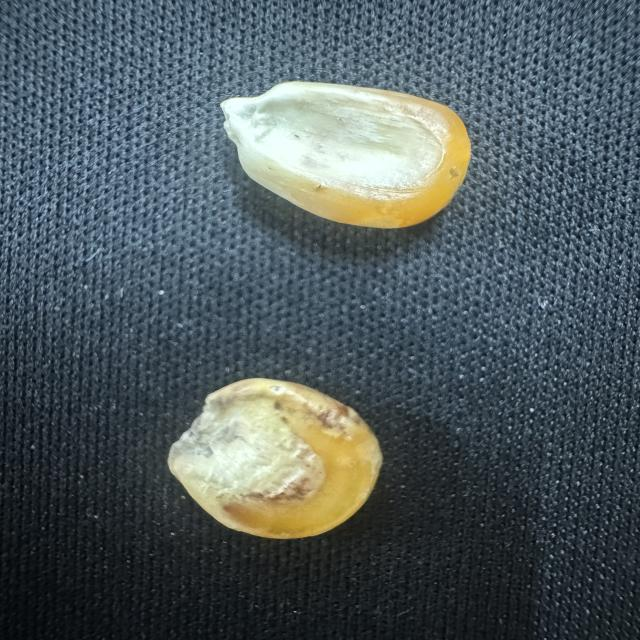Bad-Seed: (166, 369, 387, 555)
Good-Seed: (208, 75, 478, 244)
